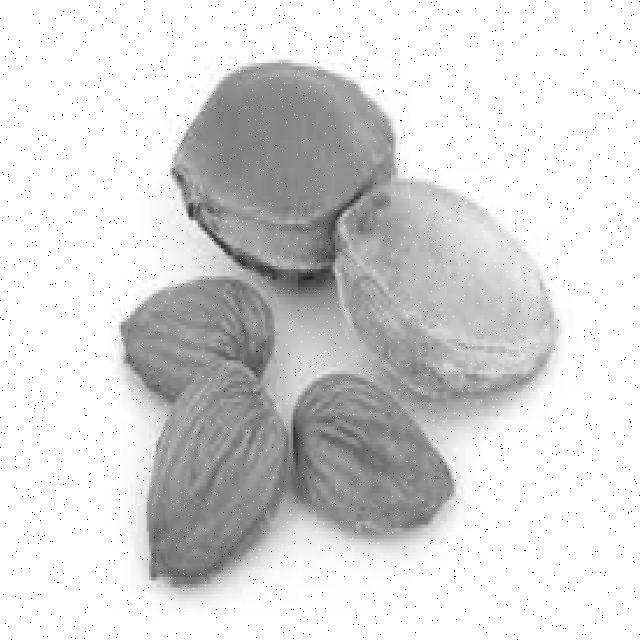kayisi_cekirdegi: (92, 45, 558, 586)
